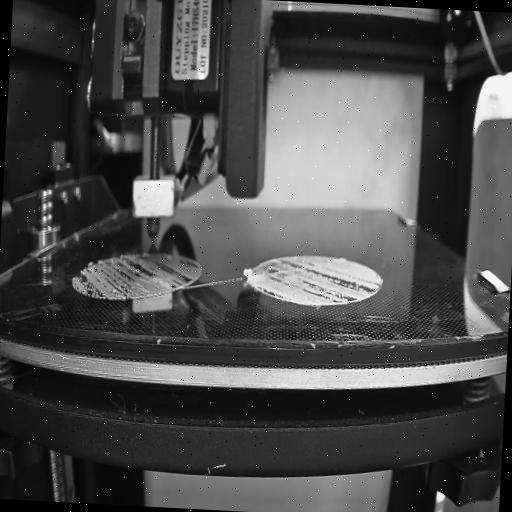under_extrusion: (72, 250, 200, 306), (254, 259, 384, 309)
